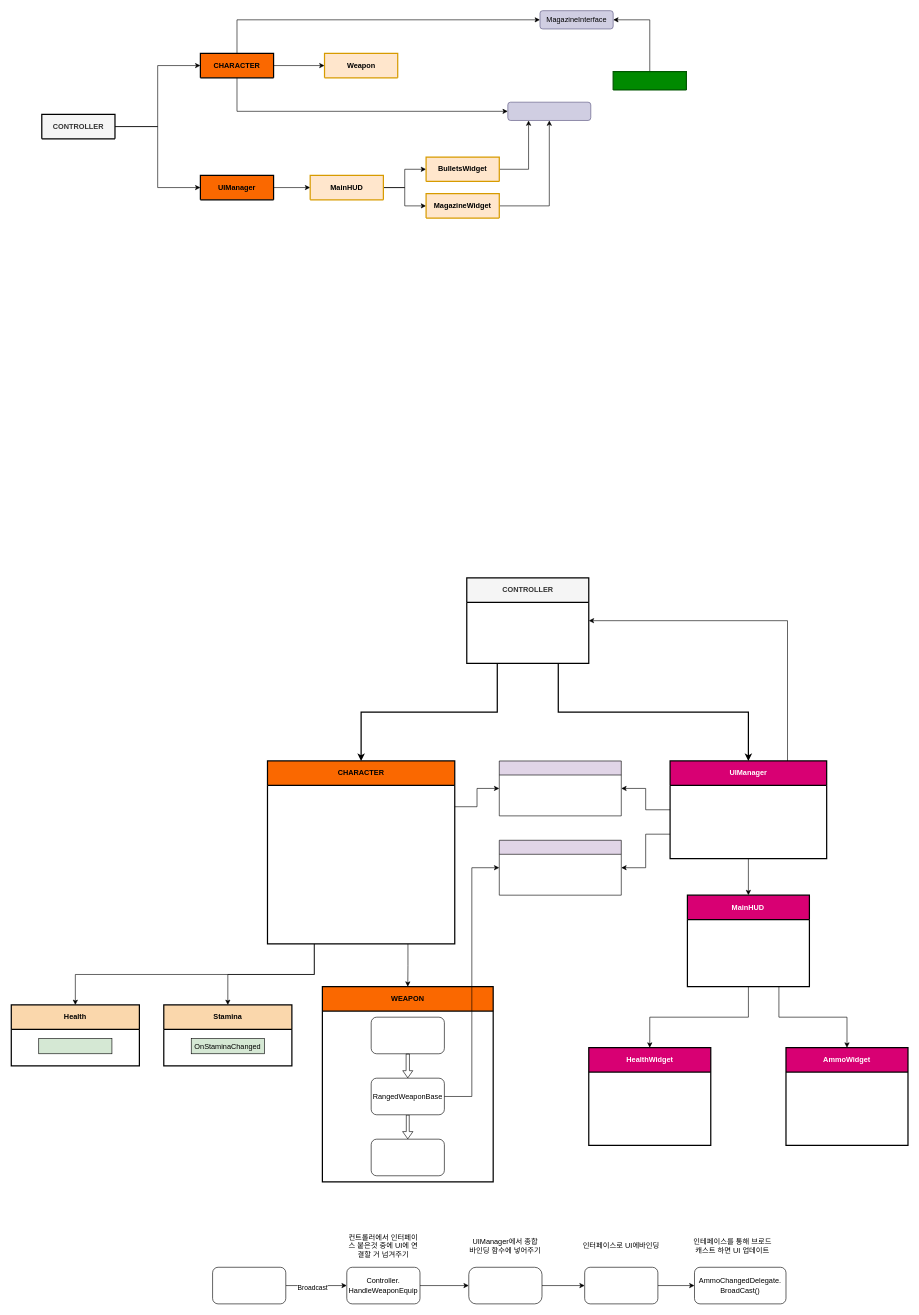
Some shapes in this 919 by 1315 pixel diagram are drawn without their labels. Each missing label, with the centre of its shape:
AmmoUIInterface: [560,867]
AmmoWidgetInterface: [549,111]
BindAmmoToTarget: [621,1285]
Character. OnWeaponEquip: [249,1285]
HealthProviderInterface: [560,788]
Magazine: [649,80]
OnHealthChanged: [75,1046]
Rifle: [407,1157]
UIManager. RegisterUIObject: [505,1285]
WeaponBase: [407,1035]
